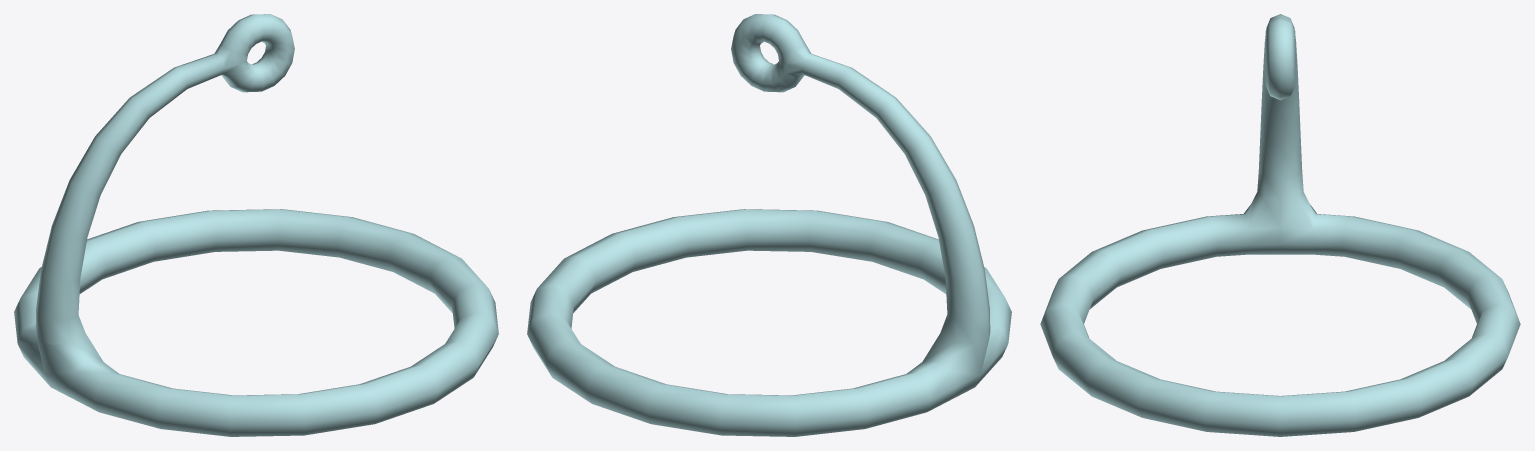
Rendered from SkyGroundSupport.fbx.
3 renders of one model, left to right at view 1: azimuth 30°, elevation 25°; view 2: azimuth 150°, elevation 25°; view 3: azimuth 270°, elevation 25°, orthographic.
Parts seen in each view (by area): view 1: SkyGroundSupport; view 2: SkyGroundSupport; view 3: SkyGroundSupport.
Boxes of the visible parts, x1,y1,x2,y2 form: SkyGroundSupport: [14, 14, 498, 436]; SkyGroundSupport: [527, 14, 1011, 436]; SkyGroundSupport: [1040, 14, 1520, 436].
Size of the model in its own units: 224 by 220 by 164.
